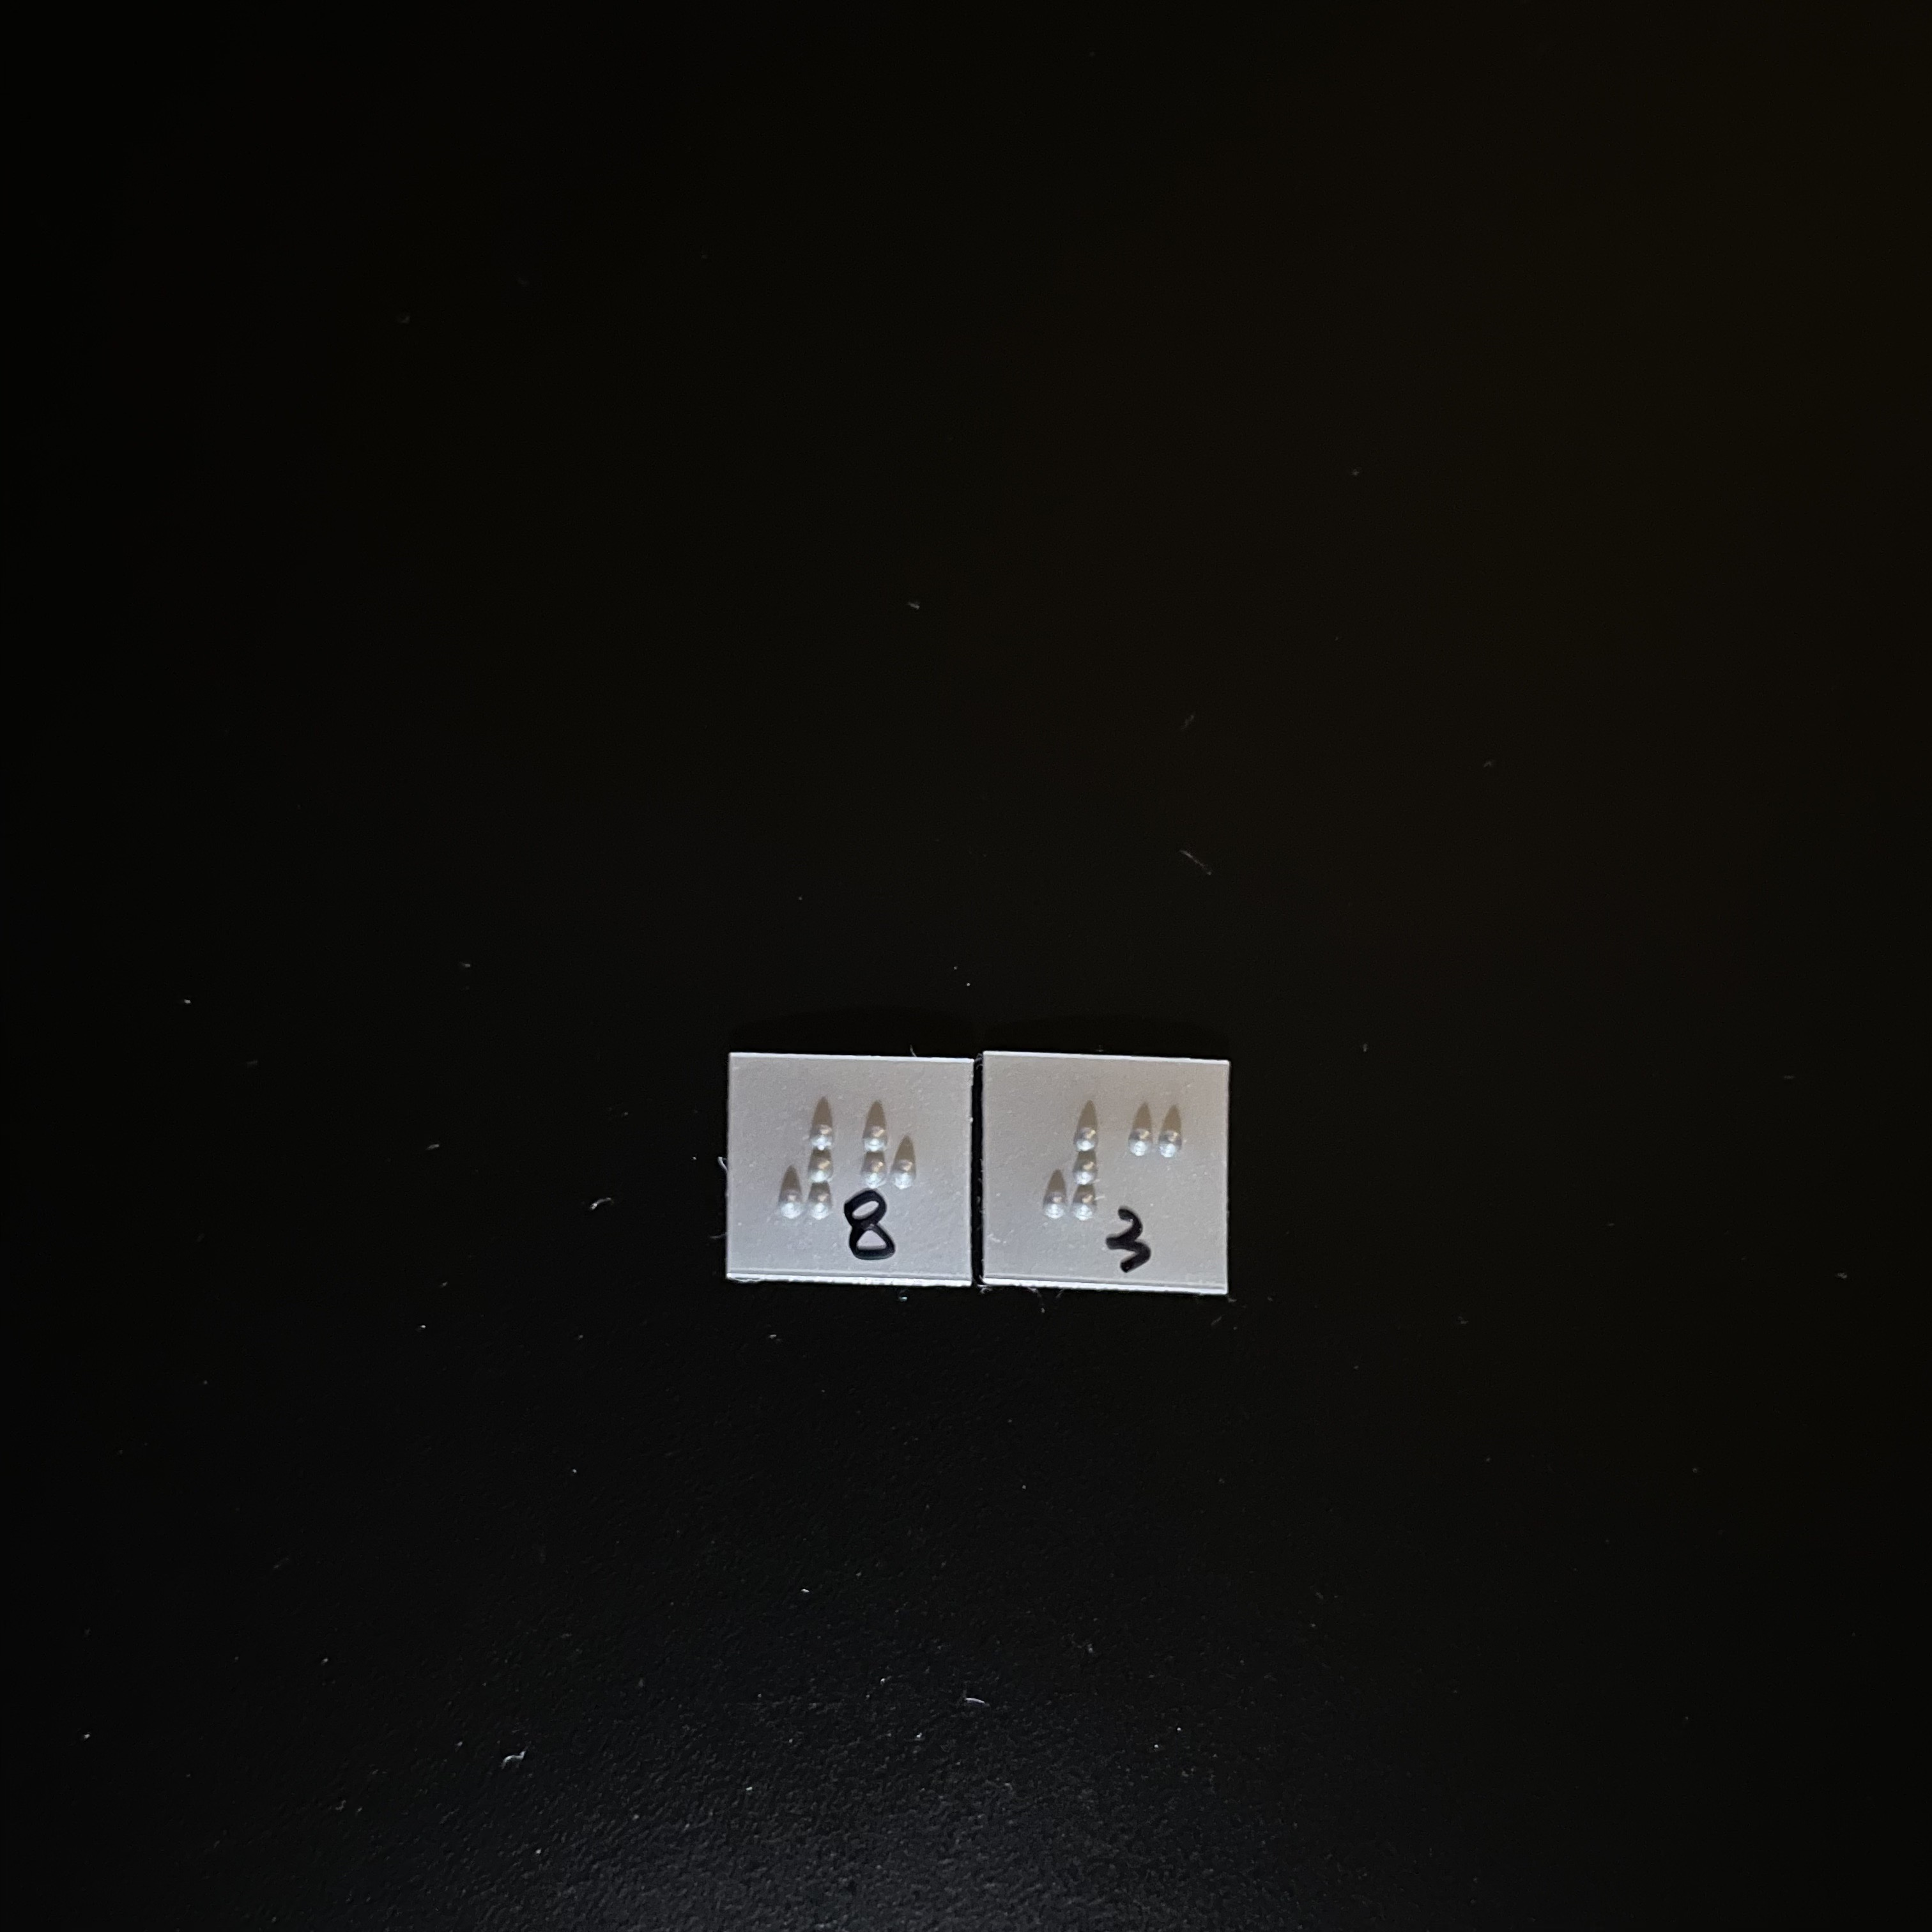#: (1040, 1099, 1113, 1229), (774, 1099, 847, 1225)
c: (1119, 1099, 1188, 1234)
h: (853, 1103, 928, 1229)
